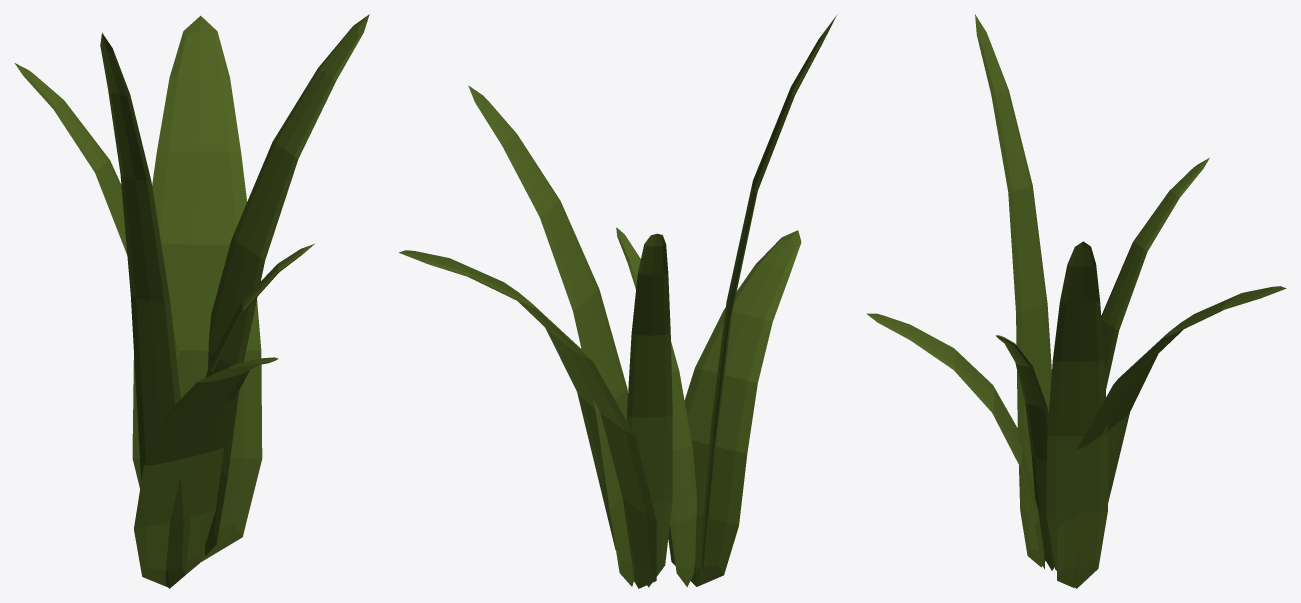
The model's file is grass.glb.
3 views of the same model, side by side, from view 1: azimuth 30°, elevation 25°; view 2: azimuth 150°, elevation 25°; view 3: azimuth 270°, elevation 25° (orthographic). The views are drawn at different scales.
Visible parts, largest first — view 1: Plane.008; view 2: Plane.008; view 3: Plane.008.
Part boxes in pixels (<box>): Plane.008: <box>14,14,369,588</box>; Plane.008: <box>399,15,836,588</box>; Plane.008: <box>866,14,1286,588</box>.
Size of the model in its own units: 0.1654 by 0.2912 by 0.2173.
Materials: 1 (1 with a texture image).
